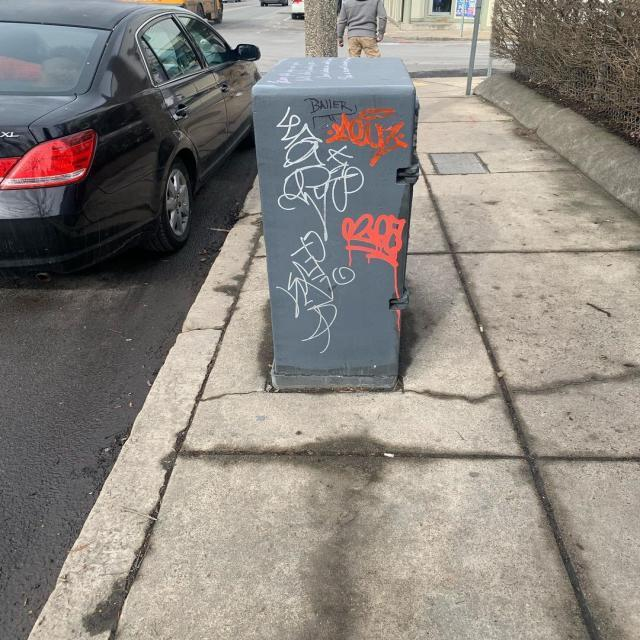-: (267, 95, 405, 372)
